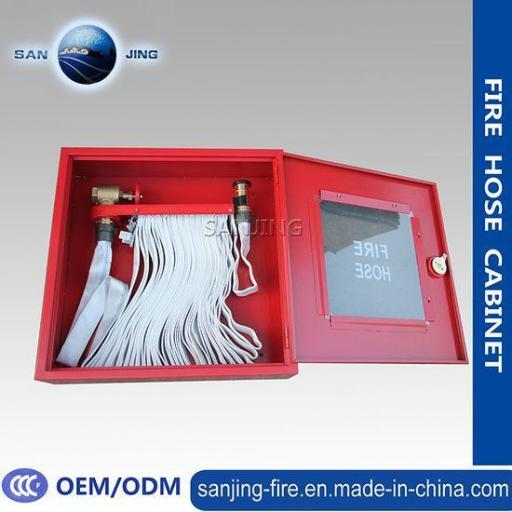fire_hose: (30, 138, 470, 388)
